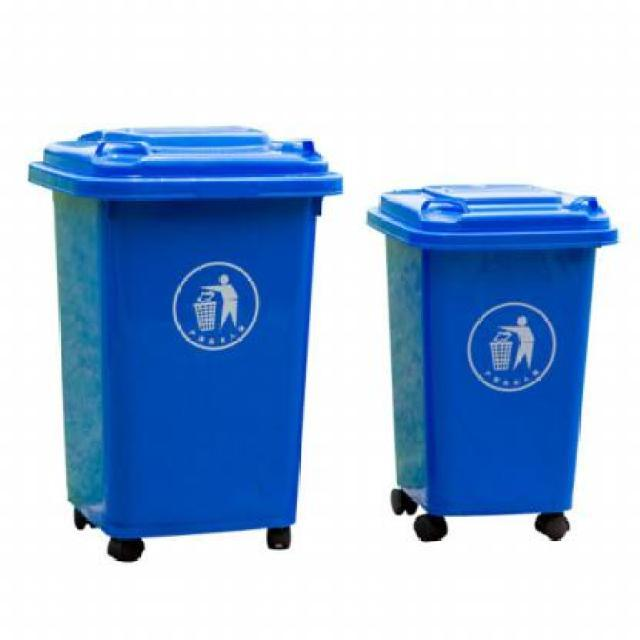garbage container: (26, 115, 348, 597), (357, 166, 625, 571)
